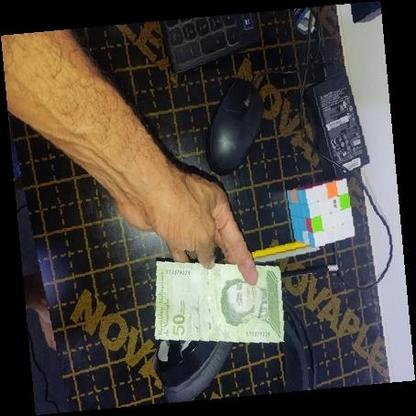vef_front: (154, 258, 284, 344)
